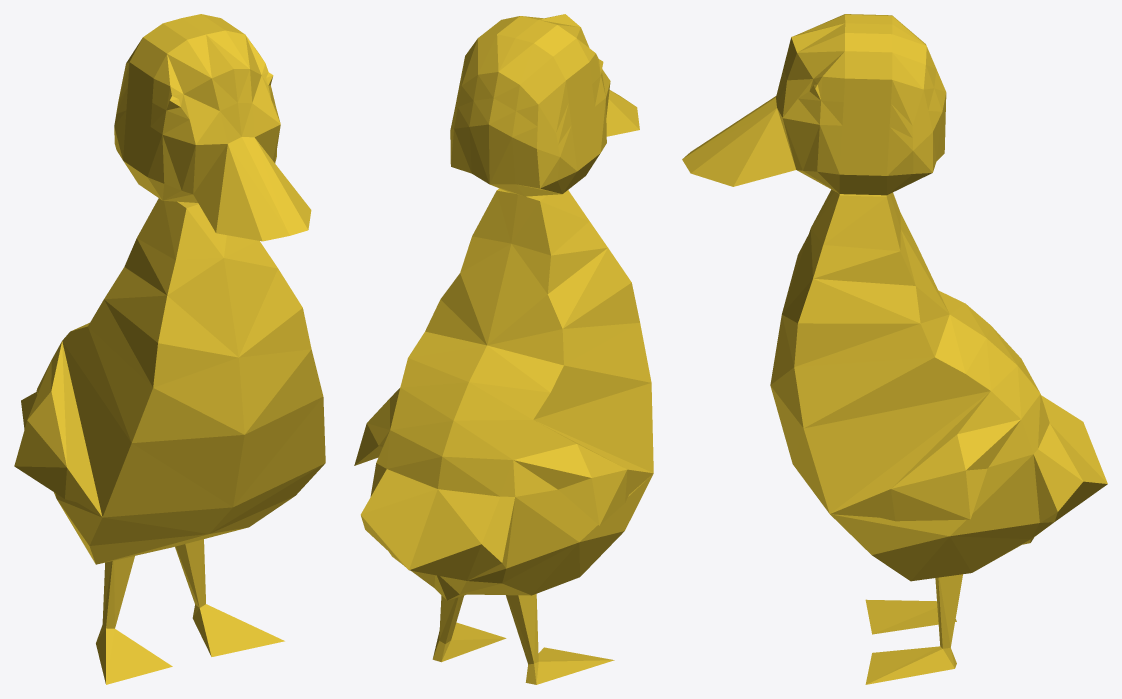
File: pato.fbx
3 views of the same model, side by side, from view 1: azimuth 30°, elevation 25°; view 2: azimuth 150°, elevation 25°; view 3: azimuth 270°, elevation 25° (orthographic). The views are drawn at different scales.
Parts seen in each view (by area): view 1: Cube.001; view 2: Cube.001; view 3: Cube.001.
Part boxes in pixels (x1=…): Cube.001: x1=14, y1=14, x2=325, y2=684; Cube.001: x1=354, y1=14, x2=653, y2=684; Cube.001: x1=682, y1=14, x2=1107, y2=684.
Size of what is drawn, in the model's own units: 341 by 815 by 507.
